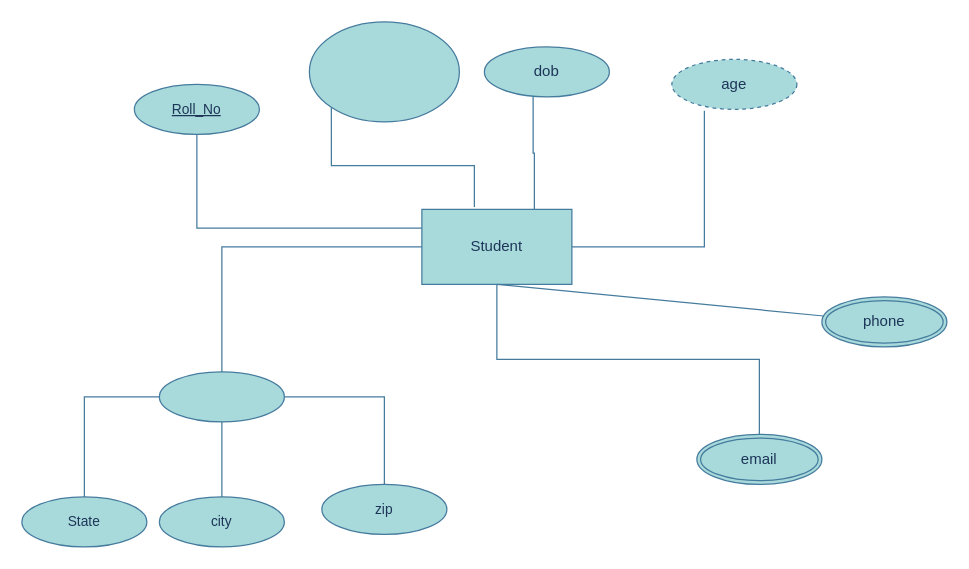
This 969x569 diagram has some shape labels left out. The centre of each missing label's shape, as x and y in pixels:
Address: point (221, 396)
name: point (383, 71)
